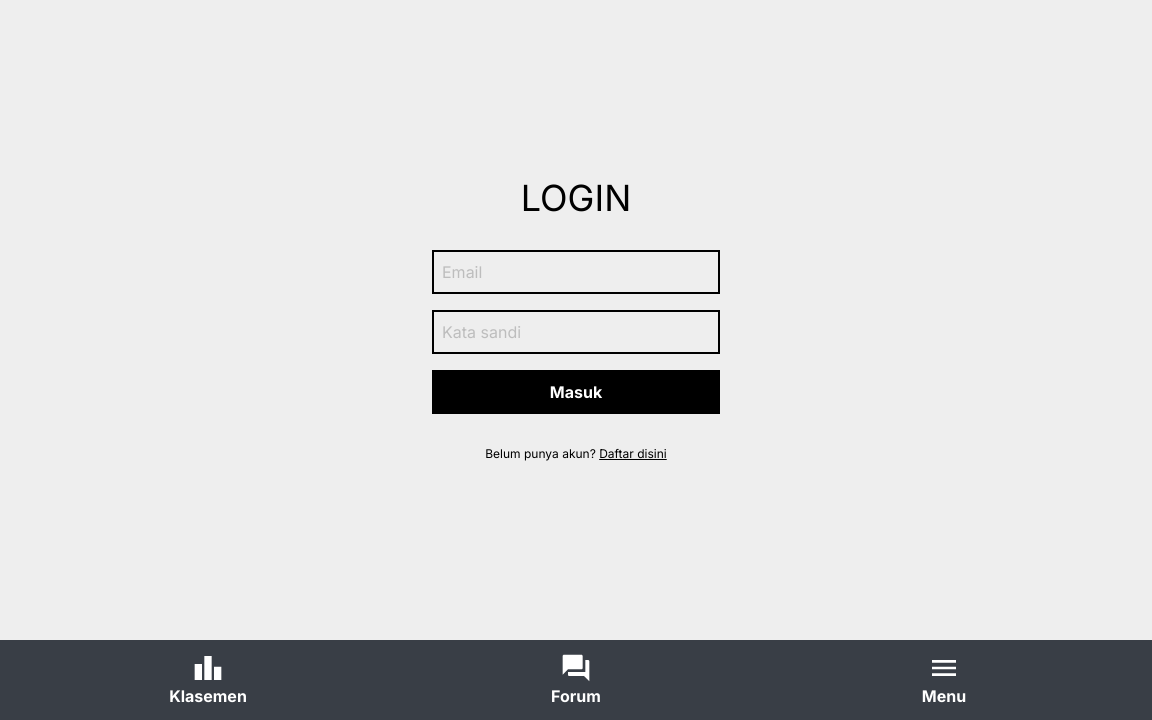
Test: Login spec › should display alert when email is empty
Click the button with test id "login-btn": [576, 392] box x1=432 y1=370 x2=720 y2=414
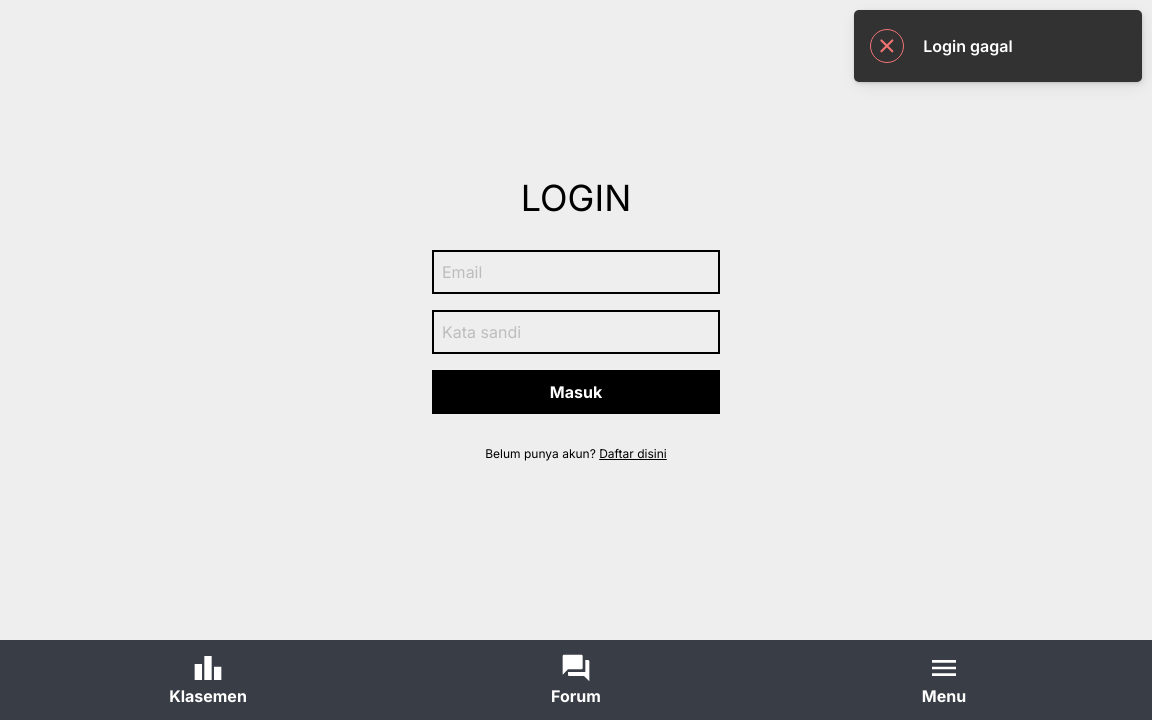
Expected: the message "Login gagal" is shown, x1=854 y1=10 x2=1142 y2=82
